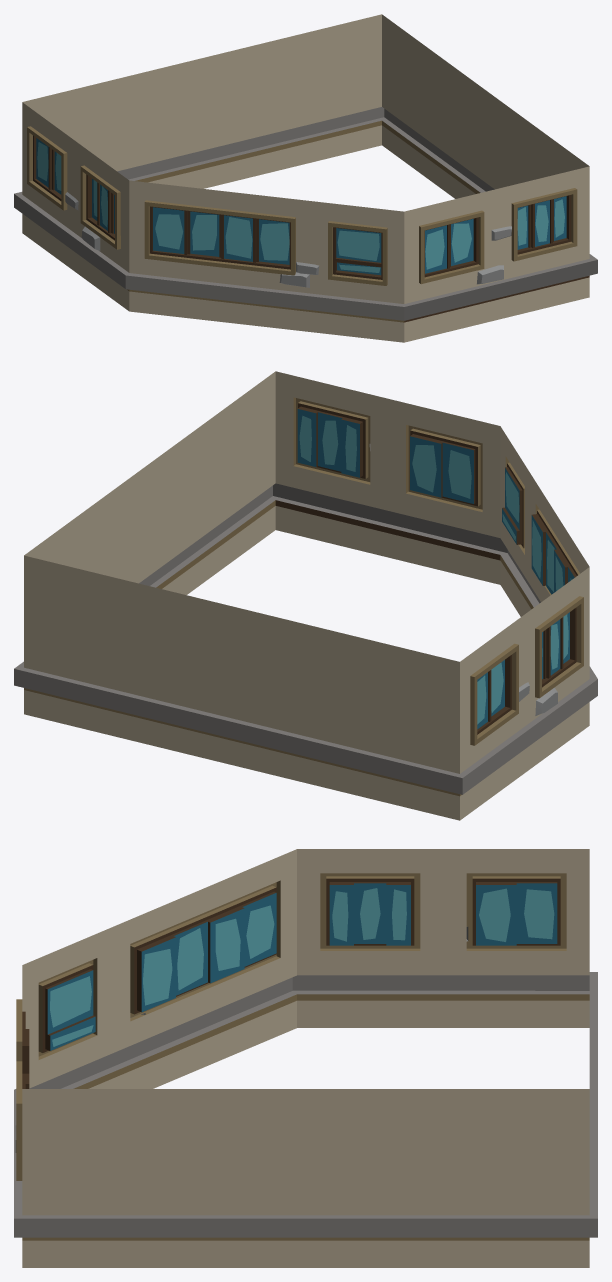
Rendered from Building_A_02_01.FBX.
3 renders of one model, top to bottom at view 1: azimuth 30°, elevation 25°; view 2: azimuth 150°, elevation 25°; view 3: azimuth 270°, elevation 25°, orthographic. The views are drawn at different scales.
Visible parts, largest first — view 1: Building_A_02_01; view 2: Building_A_02_01; view 3: Building_A_02_01.
Part boxes in pixels (x1=…): Building_A_02_01: x1=14, y1=14, x2=597, y2=342; Building_A_02_01: x1=14, y1=371, x2=597, y2=820; Building_A_02_01: x1=14, y1=849, x2=597, y2=1267.
Bounding box in the file's own units: 5.02 × 1.7 × 5.02.
